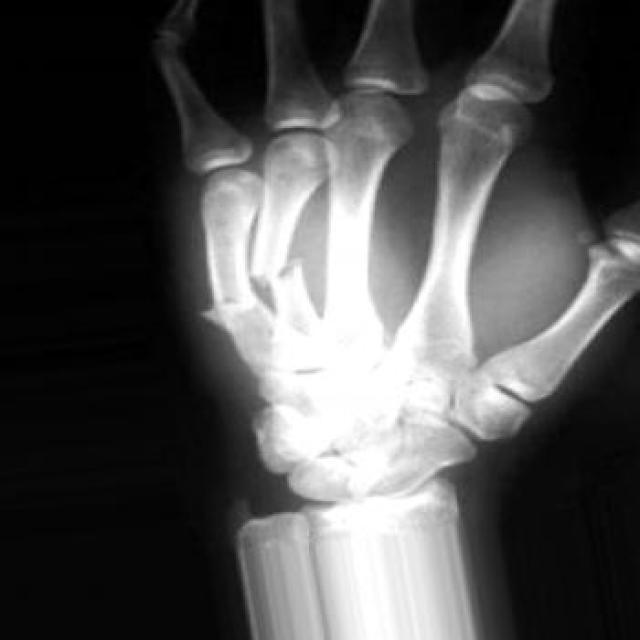Fracture: (193, 284, 260, 329), (258, 248, 314, 288)
